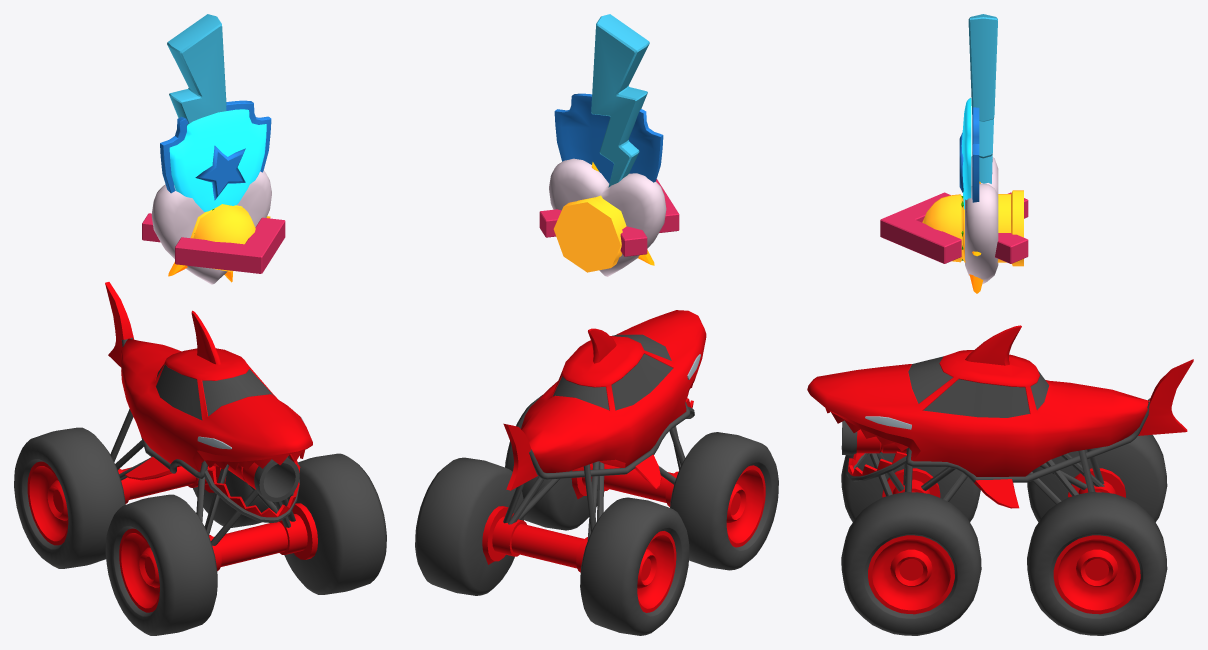
The model's file is Shark.fbx.
The picture shows the model from 3 angles, left to right: view 1: azimuth 30°, elevation 25°; view 2: azimuth 150°, elevation 25°; view 3: azimuth 270°, elevation 25°; orthographic projection. The views are drawn at different scales.
Parts seen in each view (by area): view 1: wheels1, sharkMain, wheels2, axel, SheltdFront, EnhanchedShootingIndicator, EnhancedSpeedIndicator, Heart, poles, screen, EnhancedShellIndicator, barrel_end (+3 smaller); view 2: wheels2, sharkMain, wheels1, axel, EnhanchedShootingIndicator, Heart, Sheild, EnhancedShellIndicator, poles, screen, EnhancedSpeedIndicator; view 3: sharkMain, wheels2, wheels1, axel, poles, screen, EnhancedSpeedIndicator, EnhanchedShootingIndicator, Heart, EnhancedShellIndicator, teeth, SheltdFront (+2 smaller).
Boxes of the visible parts, x1,y1,x2,y2 form: wheels1: (105,453,386,635); sharkMain: (105,282,312,480); wheels2: (14,427,287,568); axel: (27,461,317,612); SheltdFront: (169,109,266,211); EnhanchedShootingIndicator: (167,14,226,126); EnhancedSpeedIndicator: (142,213,285,273); Heart: (151,170,271,284); poles: (110,337,299,545); screen: (156,364,274,420); EnhancedShellIndicator: (190,204,255,272); barrel_end: (254,457,299,502); wheels2: (415,457,689,635); sharkMain: (503,310,706,490); wheels1: (505,395,778,570); axel: (482,463,765,612); EnhanchedShootingIndicator: (591,14,649,187); Heart: (549,158,666,276); Sheild: (554,93,663,183); EnhancedShellIndicator: (553,195,626,272); poles: (503,402,694,540); screen: (553,334,673,410); EnhancedSpeedIndicator: (539,179,679,256); sharkMain: (807,325,1193,508); wheels2: (1027,435,1167,635); wheels1: (841,452,981,635); axel: (868,468,1140,614); poles: (846,398,1150,504); screen: (908,356,1048,417); EnhancedSpeedIndicator: (880,192,1028,263); EnhanchedShootingIndicator: (968,14,997,183); Heart: (965,156,998,284); EnhancedShellIndicator: (922,190,1023,266); teeth: (825,408,908,476); SheltdFront: (961,98,971,209).
Size of the model in its own units: 162 by 398 by 244.
